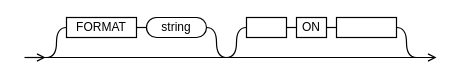
Image size: 463x84. Some labels were removed from this diagram. Each missing label, with the box of its shape:
ERROR: (335, 16, 397, 38)
NULL: (245, 16, 287, 38)
